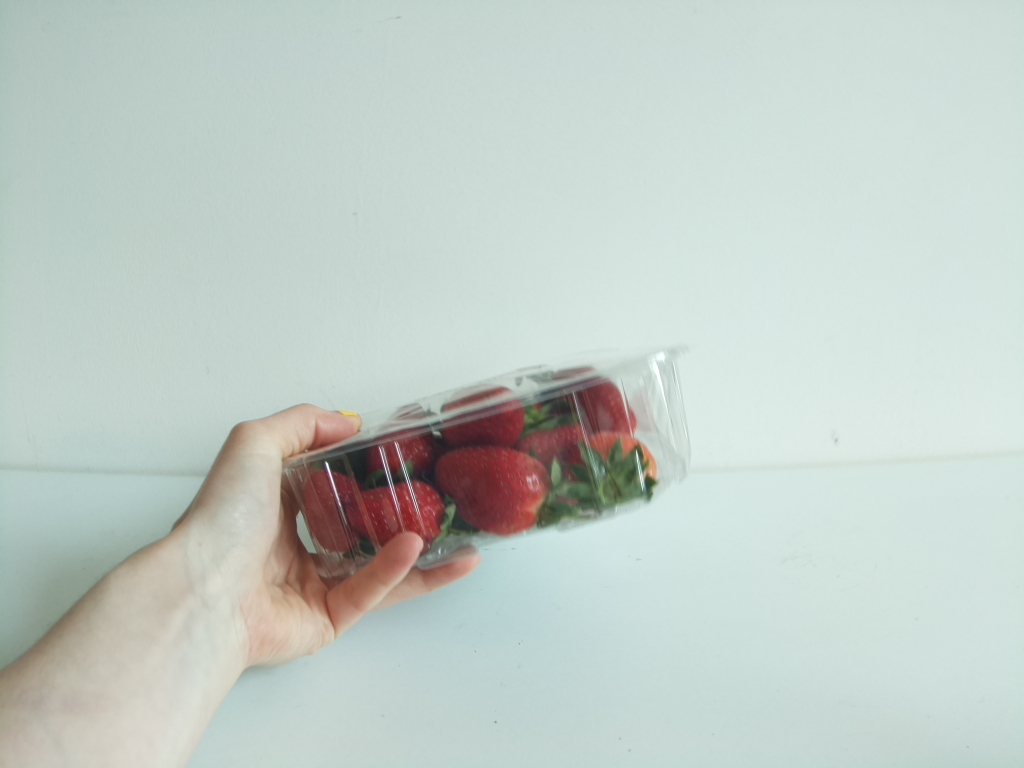soft-fruit: (282, 338, 689, 575)
